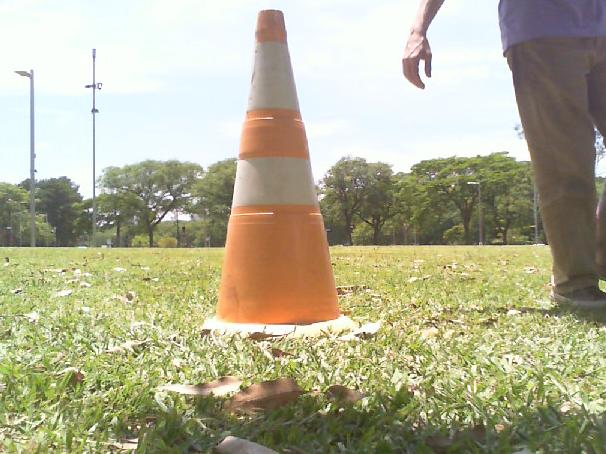0 cone: (200, 9, 357, 334)
